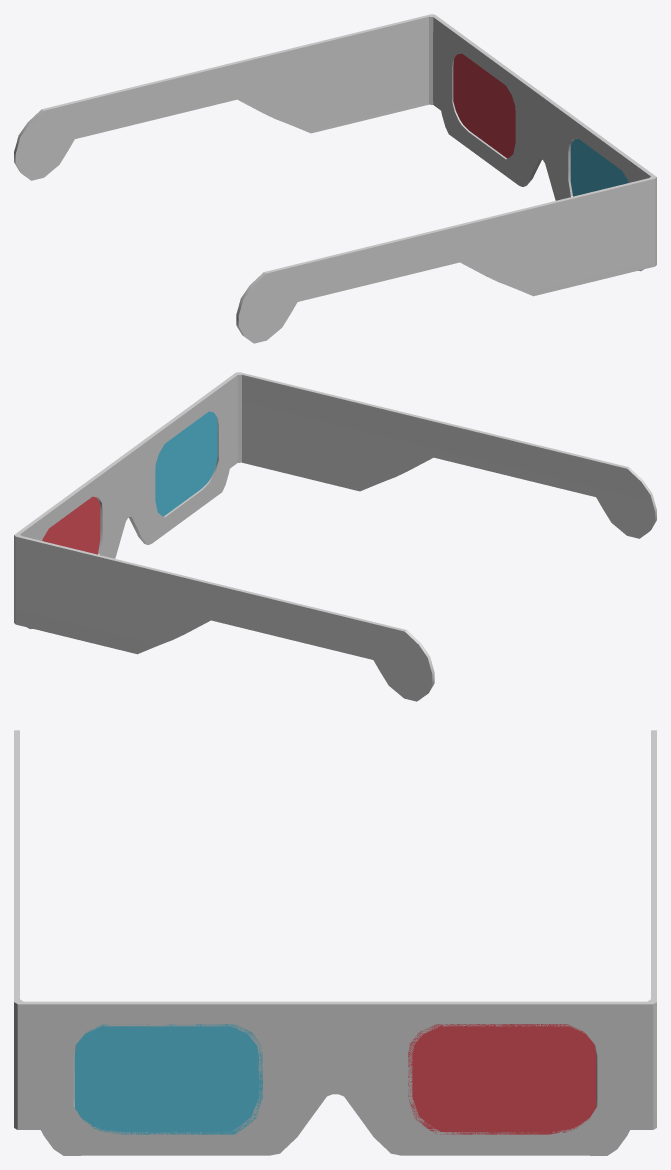
Rendered from MDL_Glasses_01.fbx.
3 views of the same model, one above another, from view 1: azimuth 30°, elevation 25°; view 2: azimuth 150°, elevation 25°; view 3: azimuth 270°, elevation 25° (orthographic). The views are drawn at different scales.
Visible parts, largest first — view 1: MDL_Frame_Glasses, MDL_Left_Glass, MDL_Right_Glass; view 2: MDL_Frame_Glasses, MDL_Right_Glass, MDL_Left_Glass; view 3: MDL_Frame_Glasses, MDL_Left_Glass, MDL_Right_Glass.
Boxes of the visible parts, x1,y1,x2,y2 form: MDL_Frame_Glasses: (14,14,656,343); MDL_Left_Glass: (453,53,515,158); MDL_Right_Glass: (570,138,628,196); MDL_Frame_Glasses: (14,372,656,701); MDL_Right_Glass: (155,411,217,516); MDL_Left_Glass: (42,496,100,554); MDL_Frame_Glasses: (14,730,656,1155); MDL_Left_Glass: (408,1024,596,1134); MDL_Right_Glass: (74,1024,262,1134).
Size of the model in its own units: 764 by 184 by 708.
